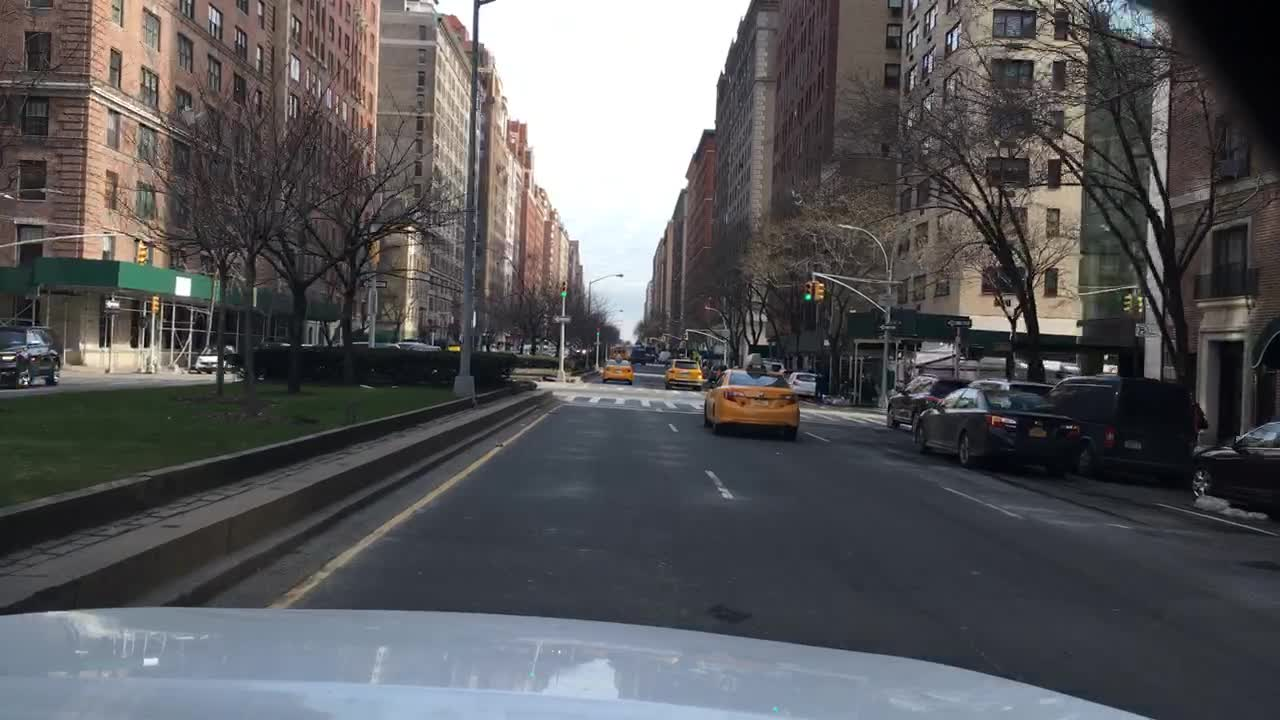car: (1049, 374, 1201, 480), (914, 385, 1085, 470), (1186, 419, 1278, 519), (701, 353, 801, 443), (884, 369, 974, 425), (0, 325, 66, 389), (237, 339, 294, 380), (968, 376, 1052, 392), (663, 358, 706, 386), (194, 343, 232, 374), (601, 357, 637, 386), (784, 371, 820, 397), (630, 343, 647, 366), (763, 359, 792, 369), (409, 341, 439, 350), (657, 348, 671, 364), (610, 344, 629, 354), (351, 339, 370, 348), (378, 341, 399, 349)
person: (812, 370, 823, 403)
traffic light: (135, 240, 147, 263), (1121, 289, 1131, 313), (802, 280, 814, 299), (818, 282, 828, 304), (151, 295, 161, 314), (558, 279, 568, 297), (1135, 294, 1141, 313)
traffic sign: (985, 155, 1030, 189), (1133, 321, 1157, 339), (946, 317, 973, 327), (358, 278, 388, 286), (551, 314, 571, 323), (876, 324, 896, 330), (887, 318, 902, 325), (594, 340, 605, 347)
